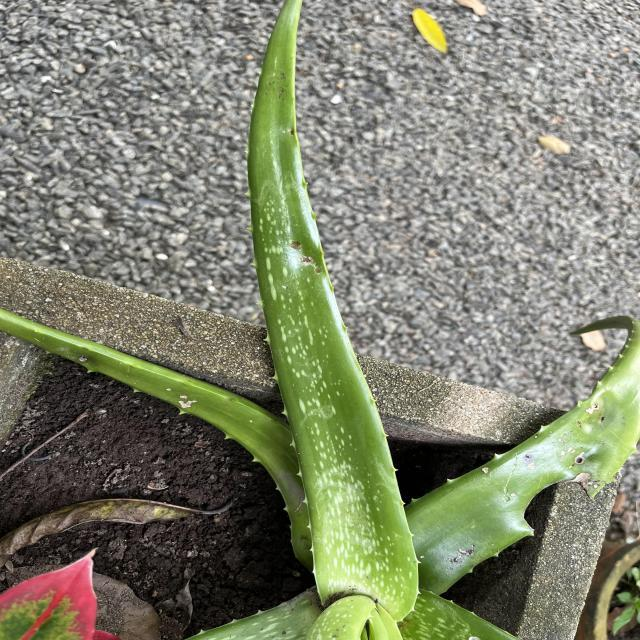Aloe vera: (240, 0, 428, 623)
